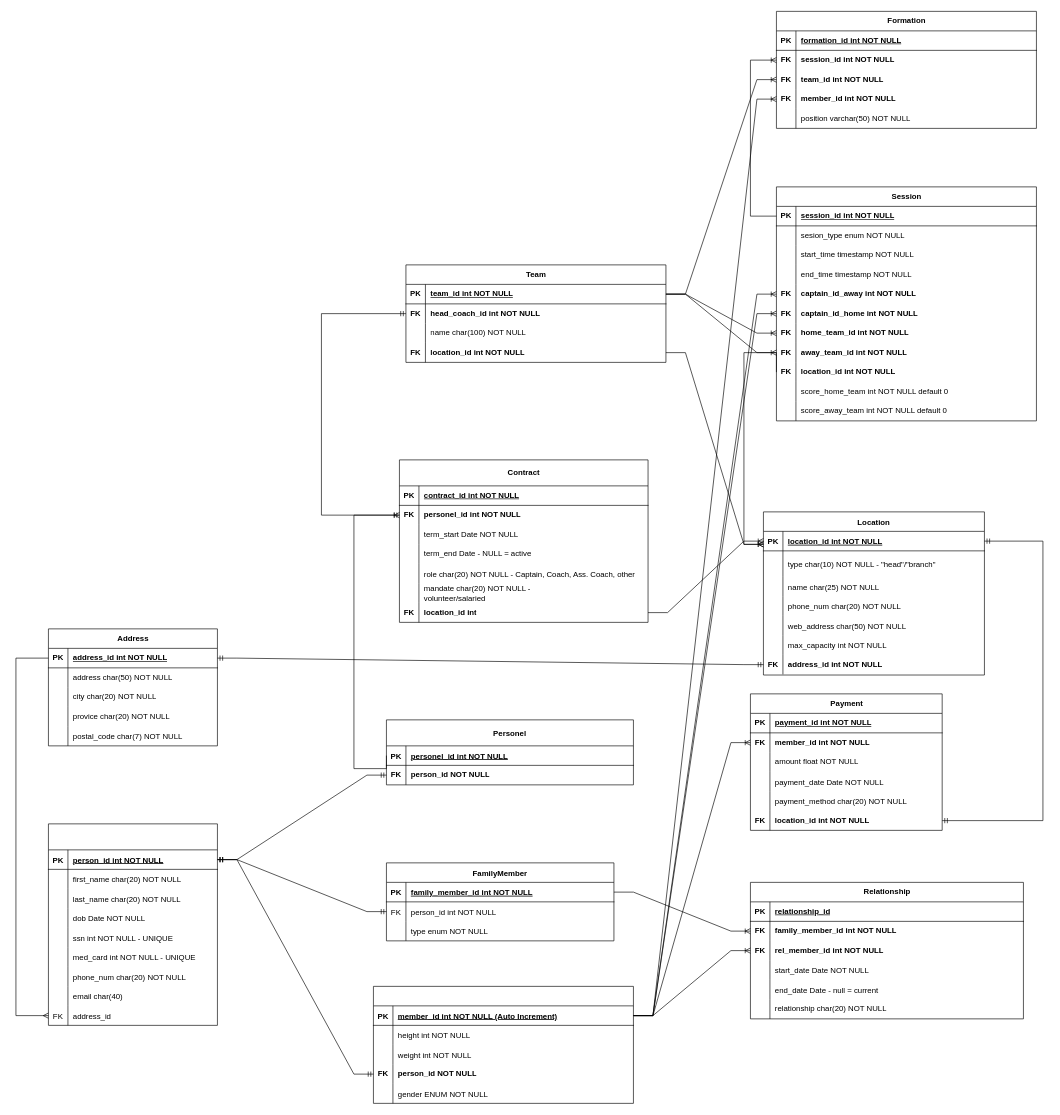
Some shapes in this 1060 by 1115 pixel diagram are drawn without their labels. The box of each missing label's shape, as (x1, y1, x2, y2) in pixels:
ClubMember: (373, 986, 633, 1103)
PersonInfo: (48, 823, 217, 1025)
